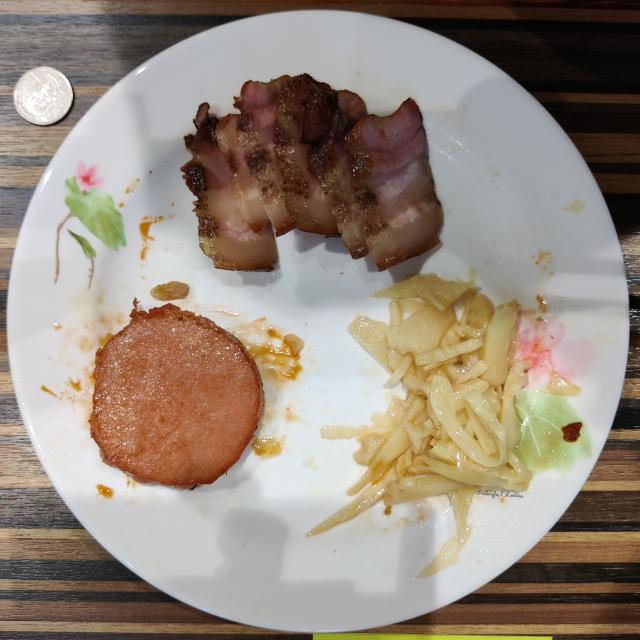Spam: (89, 304, 264, 489)
coin: (14, 66, 72, 125)
red grilled pork: (181, 74, 442, 270)
